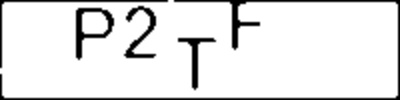2: (119, 3, 161, 61)
F: (227, 1, 274, 53)
P: (70, 2, 116, 65)
T: (175, 35, 219, 92)
